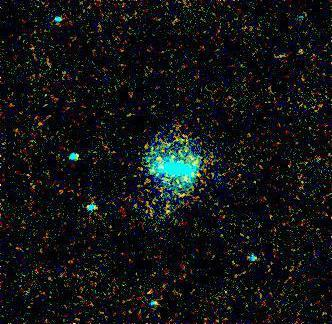star: (144, 142, 174, 172)
